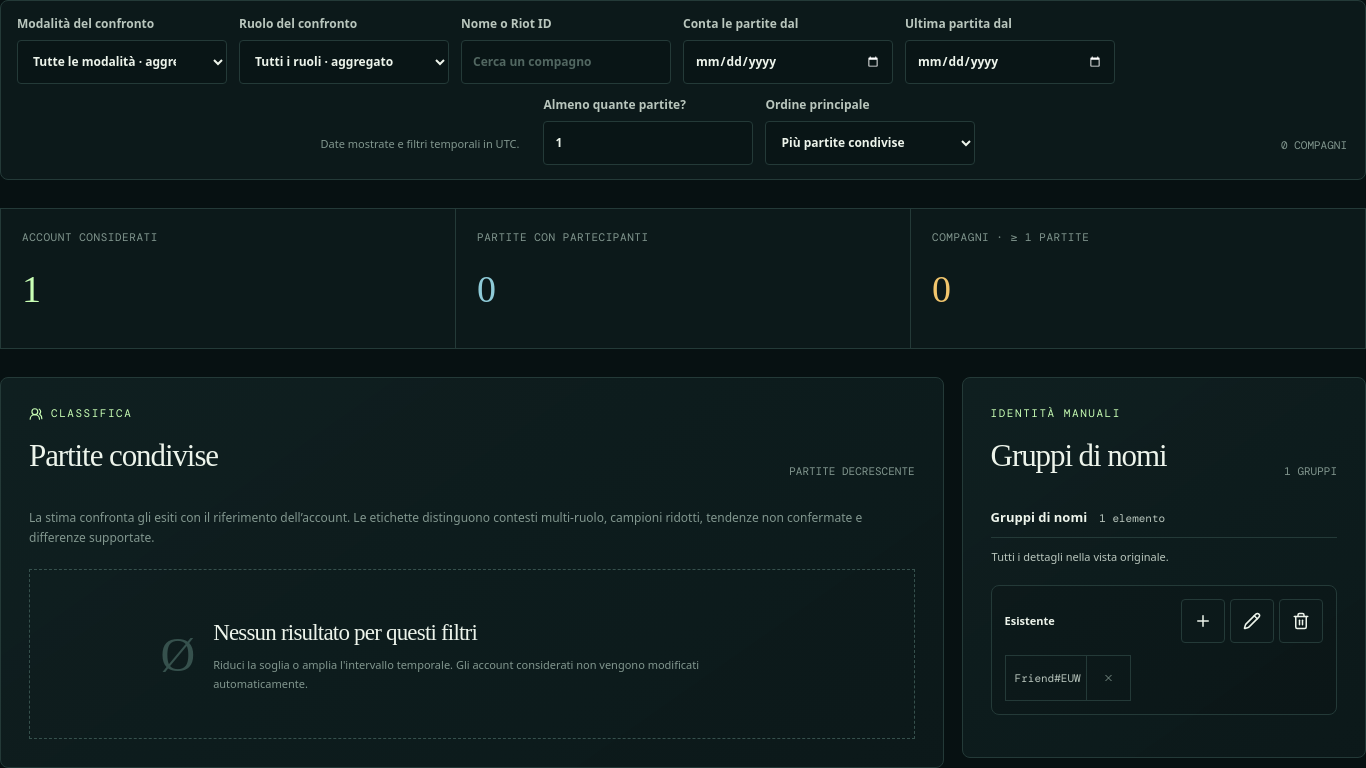
Scenario: conferme dei gruppi › conserva il modulo per delete-group dopo200 incompleto e riprova solo su richiesta
(page scrolled)
Expected: the button named "Rinomina Esistente" is shown, top-left (1230, 599), bottom-right (1274, 643)
Click the button named "Elimina Esistente": x=1301, y=621 top-left (1279, 599), bottom-right (1323, 643)
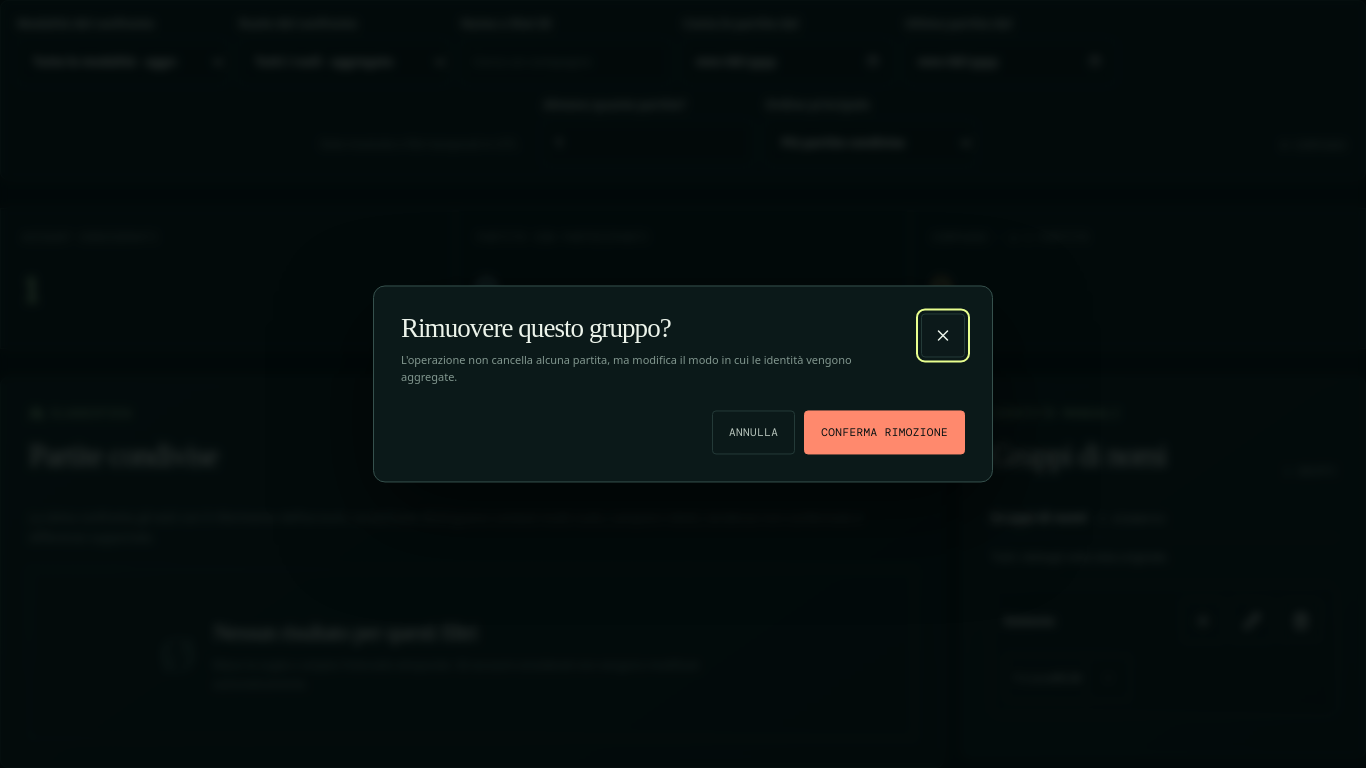
Click the button "Conferma rimozione": x=885, y=432 top-left (804, 410), bottom-right (965, 454)
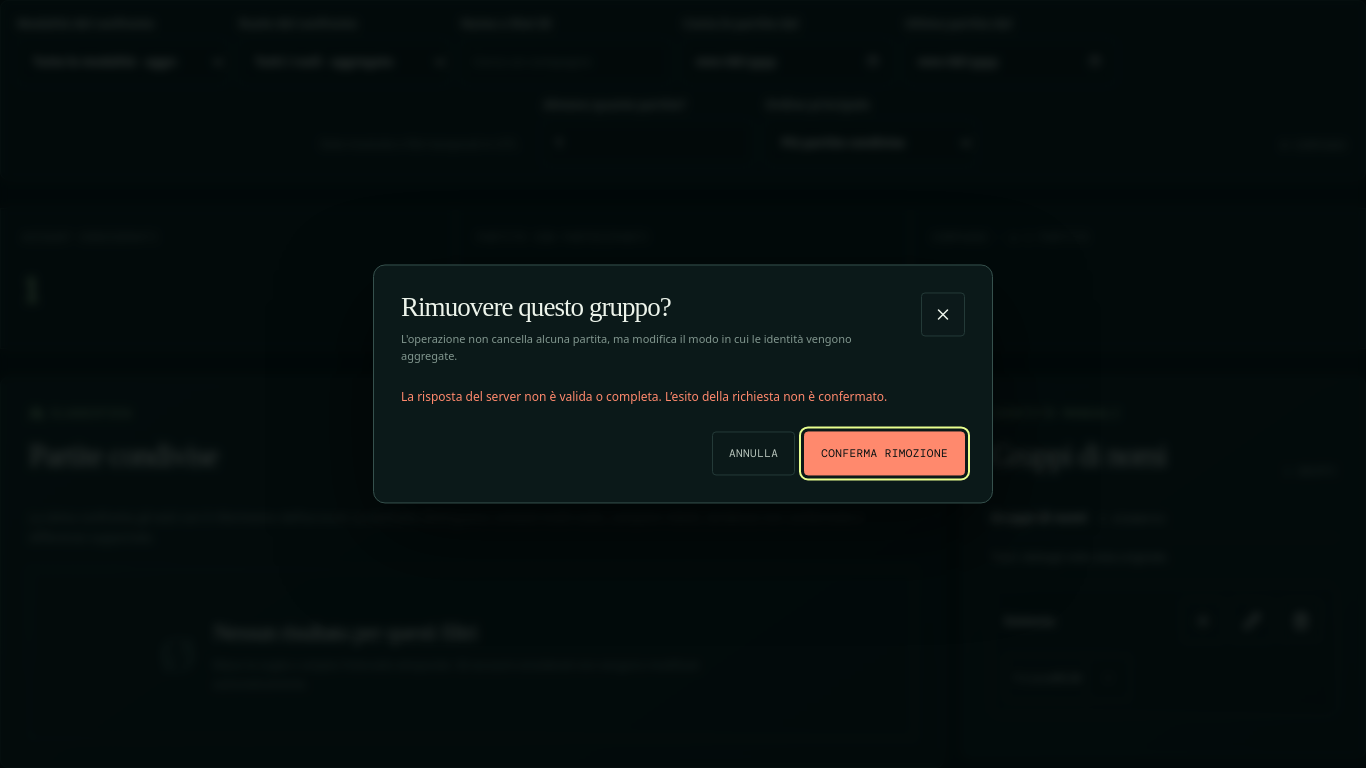
Now the button "Conferma rimozione" is enabled
Now the message shows "L’esito della richiesta non è confermato", box top-left (401, 388), bottom-right (887, 406)
Click the button "Conferma rimozione": x=885, y=454 top-left (804, 432), bottom-right (965, 476)
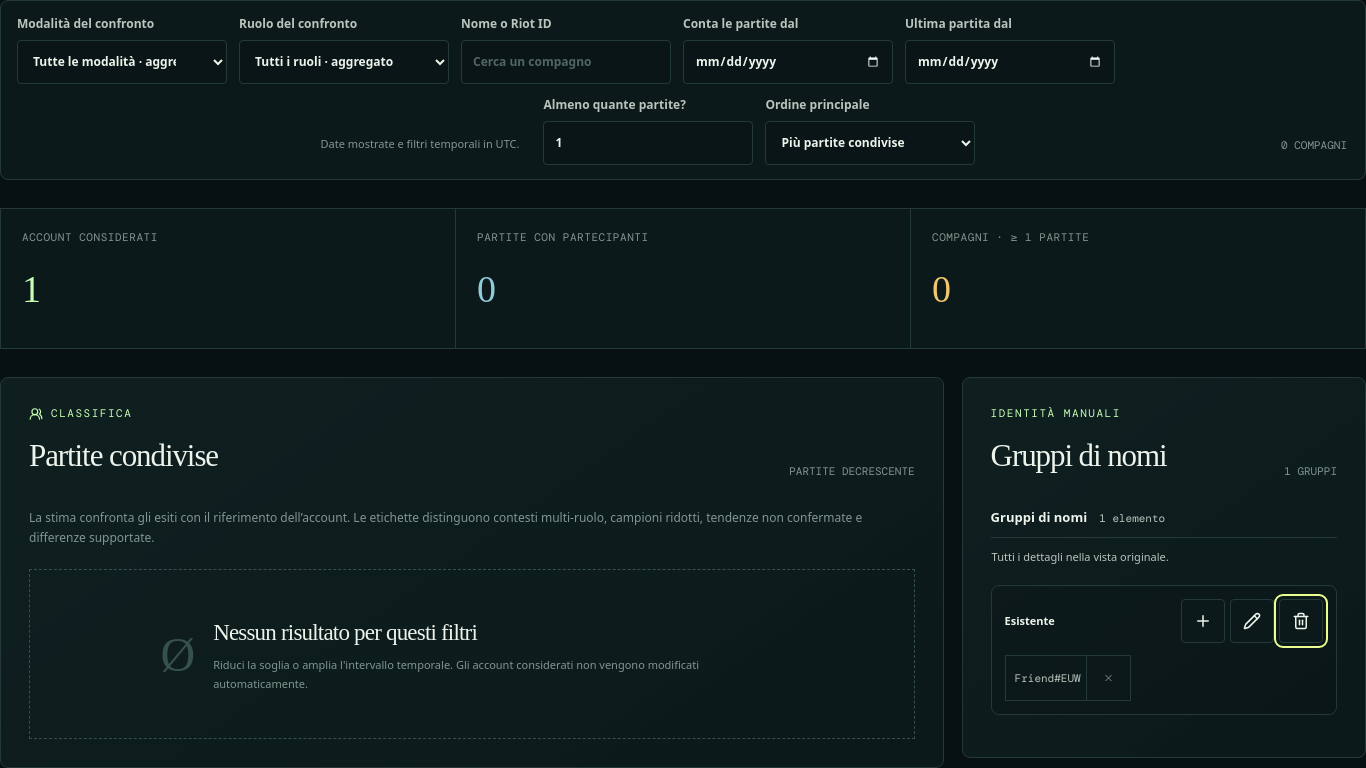
Now the dialog is gone
